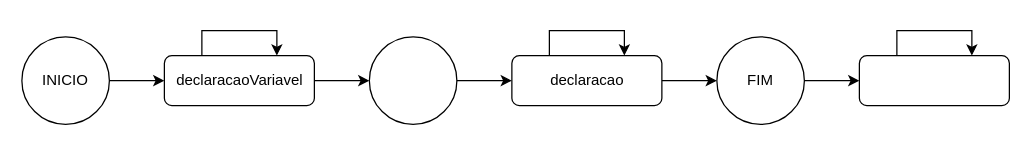
Image size: 1031x146. Some labels were removed from this diagram. Each missing label, with the centre of its shape:
declaracaoModulo: point 933,80
VARIAVEIS: point 412,80
